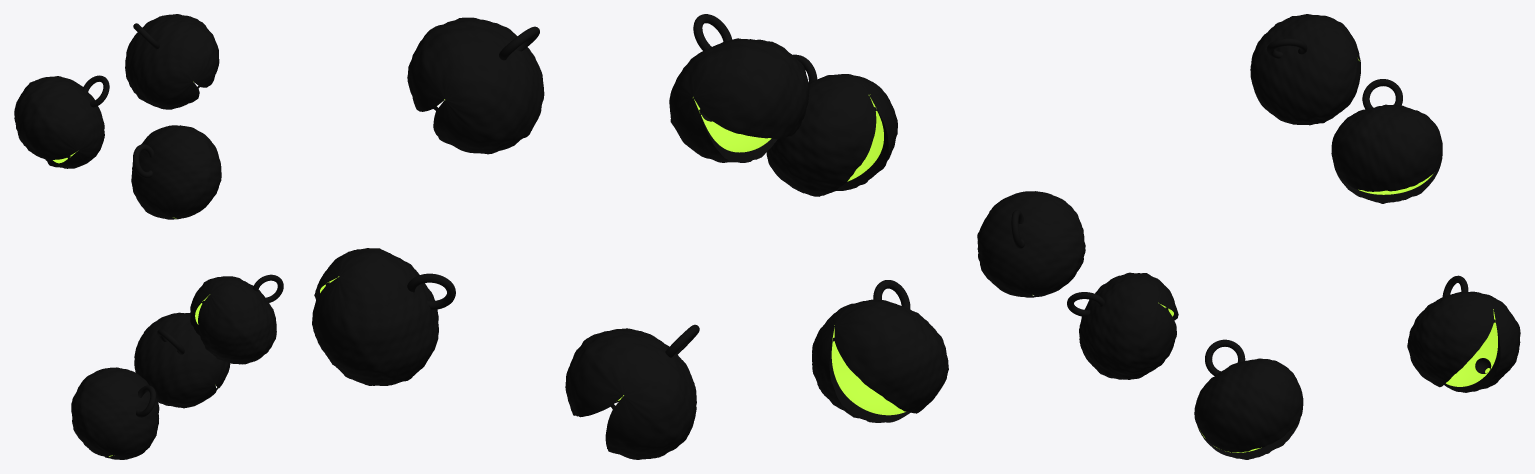
3 renders of one model, left to right at view 1: azimuth 30°, elevation 25°; view 2: azimuth 150°, elevation 25°; view 3: azimuth 270°, elevation 25°, orthographic. The views are drawn at different scales.
Visible parts, largest first — view 1: kara_3, kara_4, kara_5, kara_2, kara_1, kara_0, chu_5, chu_0, chu_4, chu_2; view 2: kara_3, kara_4, kara_1, kara_5, kara_2, kara_0, uchi_2, uchi_5, fuchi_2, chu_4, fuchi_0, chu_5 (+2 smaller); view 3: kara_5, kara_0, kara_2, kara_1, kara_3, kara_4, uchi_4, fuchi_3, fuchi_1, chu_1, chu_3.
Boxes of the visible parts, left/top/right/bottom form: kara_3: left=125, top=14, right=219, bottom=109; kara_4: left=131, top=125, right=221, bottom=219; kara_5: left=14, top=76, right=104, bottom=168; kara_2: left=71, top=367, right=159, bottom=459; kara_1: left=134, top=312, right=230, bottom=408; kara_0: left=190, top=276, right=276, bottom=364; chu_5: left=83, top=75, right=109, bottom=107; chu_0: left=252, top=274, right=283, bottom=302; chu_4: left=133, top=144, right=153, bottom=178; chu_2: left=136, top=385, right=156, bottom=417; kara_3: left=407, top=17, right=544, bottom=154; kara_4: left=312, top=248, right=438, bottom=385; kara_1: left=565, top=328, right=696, bottom=459; kara_5: left=669, top=38, right=809, bottom=162; kara_2: left=812, top=299, right=948, bottom=422; kara_0: left=766, top=74, right=897, bottom=196; uchi_2: left=831, top=325, right=905, bottom=415; uchi_5: left=693, top=97, right=771, bottom=152; fuchi_2: left=829, top=337, right=910, bottom=422; chu_4: left=407, top=273, right=455, bottom=309; fuchi_0: left=836, top=107, right=888, bottom=190; chu_5: left=693, top=14, right=732, bottom=50; kara_5: left=1250, top=14, right=1360, bottom=125; kara_0: left=977, top=191, right=1085, bottom=297; kara_2: left=1079, top=272, right=1178, bottom=379; kara_1: left=1194, top=358, right=1303, bottom=457; kara_3: left=1331, top=104, right=1442, bottom=199; kara_4: left=1407, top=291, right=1520, bottom=392; uchi_4: left=1446, top=309, right=1497, bottom=386; fuchi_3: left=1336, top=157, right=1441, bottom=203; fuchi_1: left=1206, top=419, right=1300, bottom=459; chu_1: left=1205, top=339, right=1245, bottom=375; chu_3: left=1362, top=79, right=1402, bottom=109.
Bounding box in the file's own units: 1.92 × 2.15 × 2.75.
